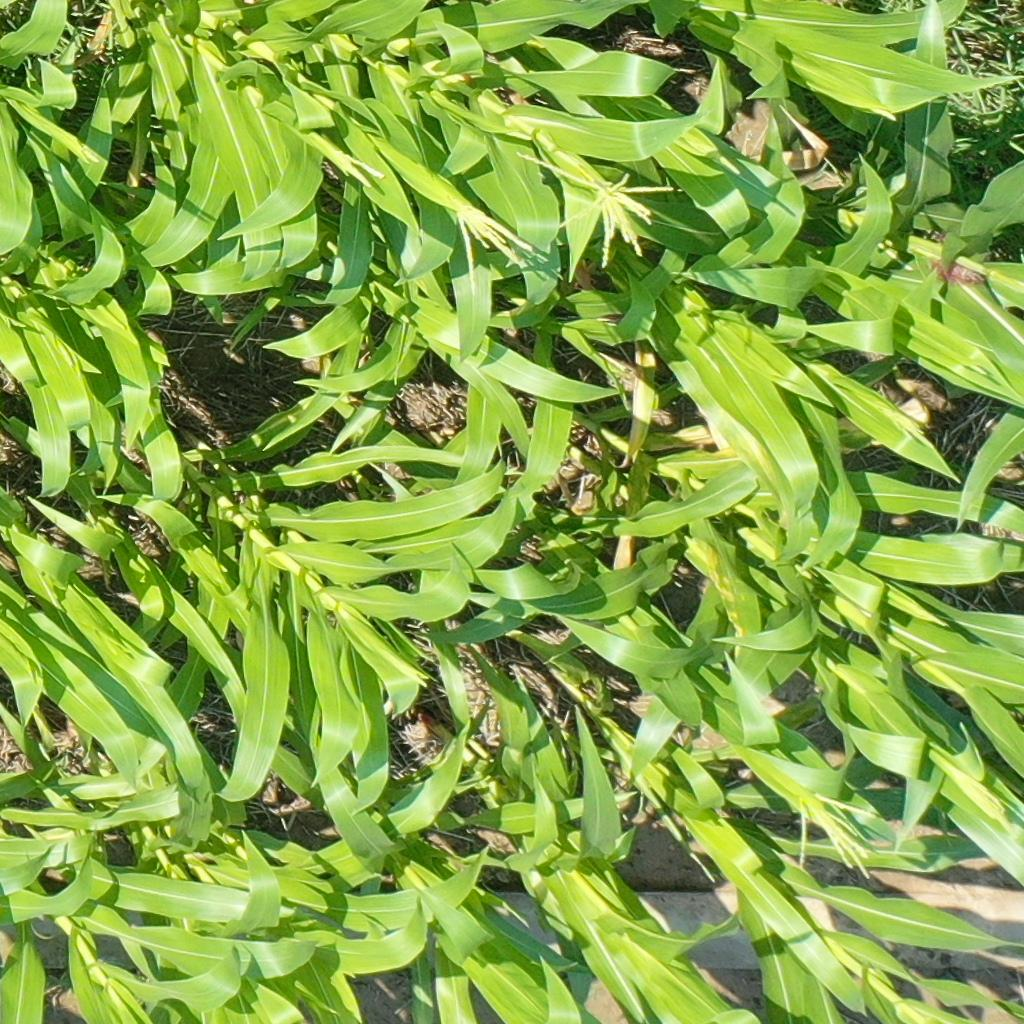Tassel: (516, 138, 675, 268), (447, 197, 547, 296), (793, 784, 889, 886), (942, 761, 1016, 834), (334, 143, 389, 190)
